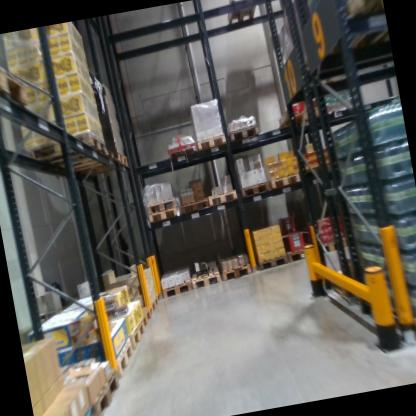pallet: (316, 231, 416, 351), (322, 0, 391, 62), (19, 155, 129, 184), (66, 365, 125, 416), (33, 144, 121, 176), (0, 33, 32, 121), (26, 135, 109, 165), (185, 252, 224, 294), (158, 261, 200, 300), (217, 247, 256, 287), (102, 337, 138, 380), (278, 102, 323, 134), (223, 0, 267, 28), (227, 122, 262, 150), (237, 174, 272, 202), (267, 166, 304, 192), (254, 249, 290, 275), (123, 315, 149, 351), (143, 204, 182, 227), (176, 192, 210, 217), (196, 132, 229, 156), (205, 184, 238, 207), (285, 242, 317, 265), (168, 142, 200, 164), (143, 194, 178, 214), (133, 303, 154, 329), (56, 406, 94, 416), (144, 293, 161, 314)
